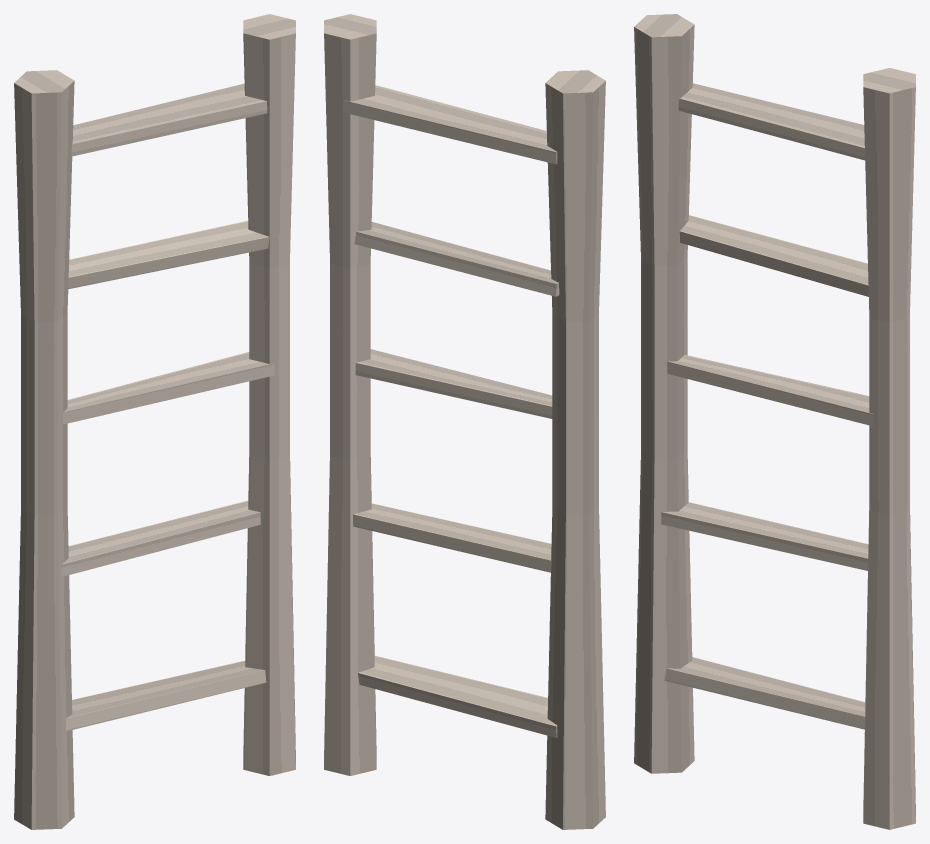
The model's file is Int_Ladder.fbx.
3 views of the same model, side by side, from view 1: azimuth 30°, elevation 25°; view 2: azimuth 150°, elevation 25°; view 3: azimuth 330°, elevation 25° (orthographic).
Visible parts, largest first — view 1: Ladder; view 2: Ladder; view 3: Ladder.
Part boxes in pixels (x1,y1,x2,y2): Ladder: [14, 14, 295, 829]; Ladder: [324, 14, 605, 829]; Ladder: [634, 14, 915, 829].
Size of the model in its own units: 1.76 by 4.49 by 0.335.
